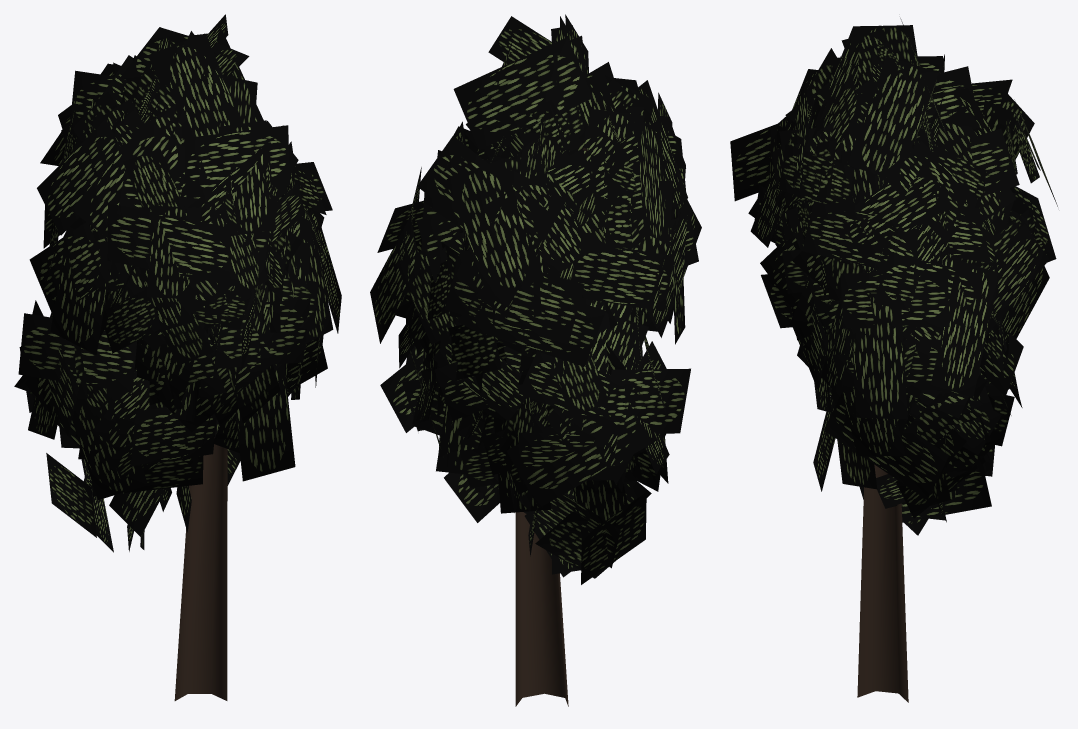
Rendered from caral_sauce_lod0.glb.
3 views of the same model, side by side, from view 1: azimuth 30°, elevation 25°; view 2: azimuth 150°, elevation 25°; view 3: azimuth 270°, elevation 25° (orthographic).
Visible parts, largest first — view 1: GEO-Kit_sauce_LOD0; view 2: GEO-Kit_sauce_LOD0; view 3: GEO-Kit_sauce_LOD0.
Part boxes in pixels (x1,y1,x2,y2): GEO-Kit_sauce_LOD0: (14,14,341,700); GEO-Kit_sauce_LOD0: (370,14,701,706); GEO-Kit_sauce_LOD0: (730,18,1057,702).
Size of the model in its own units: 3.65 by 7.75 by 3.47.
2 materials, 1 textured.
